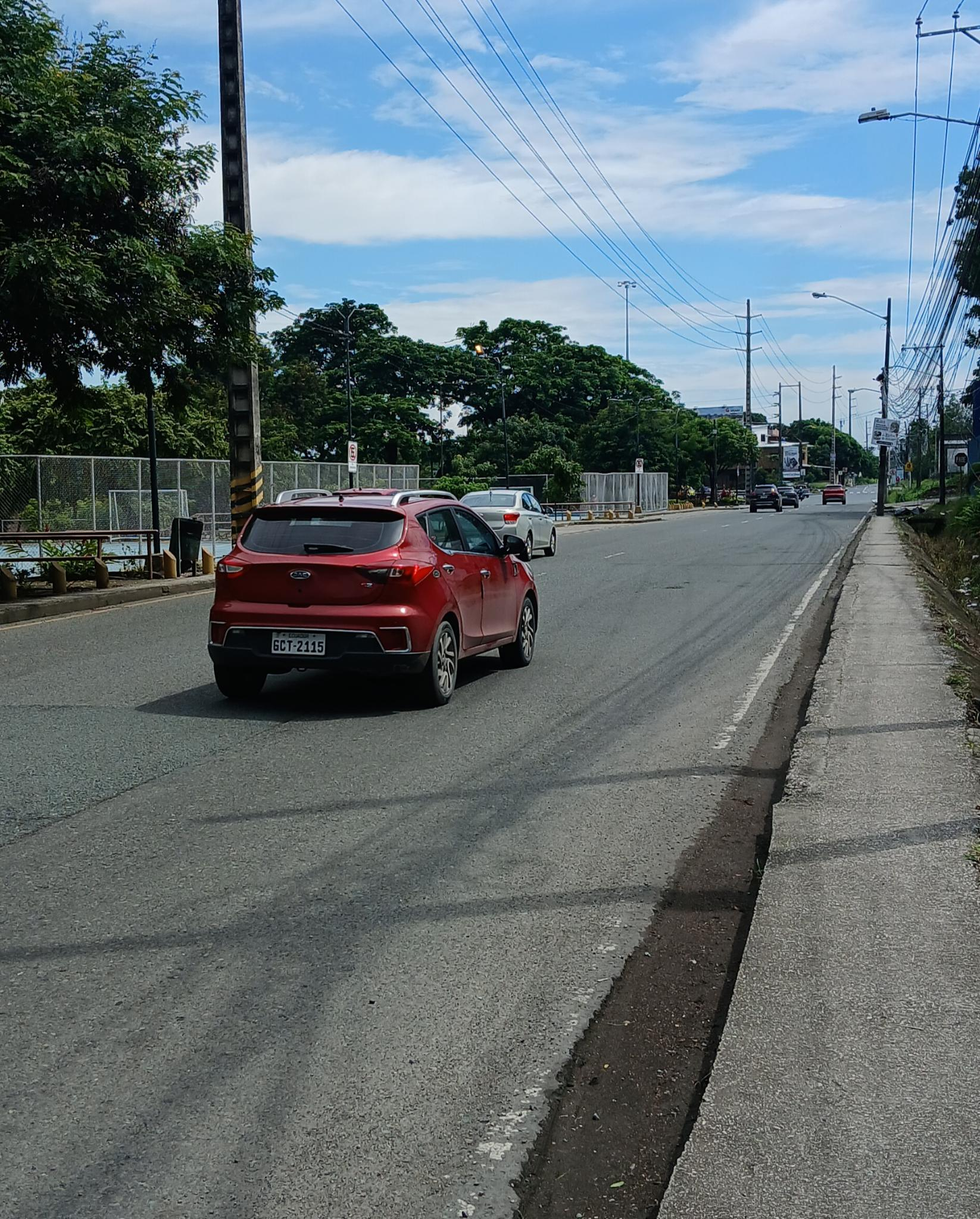license_plate: (271, 632, 325, 654)
